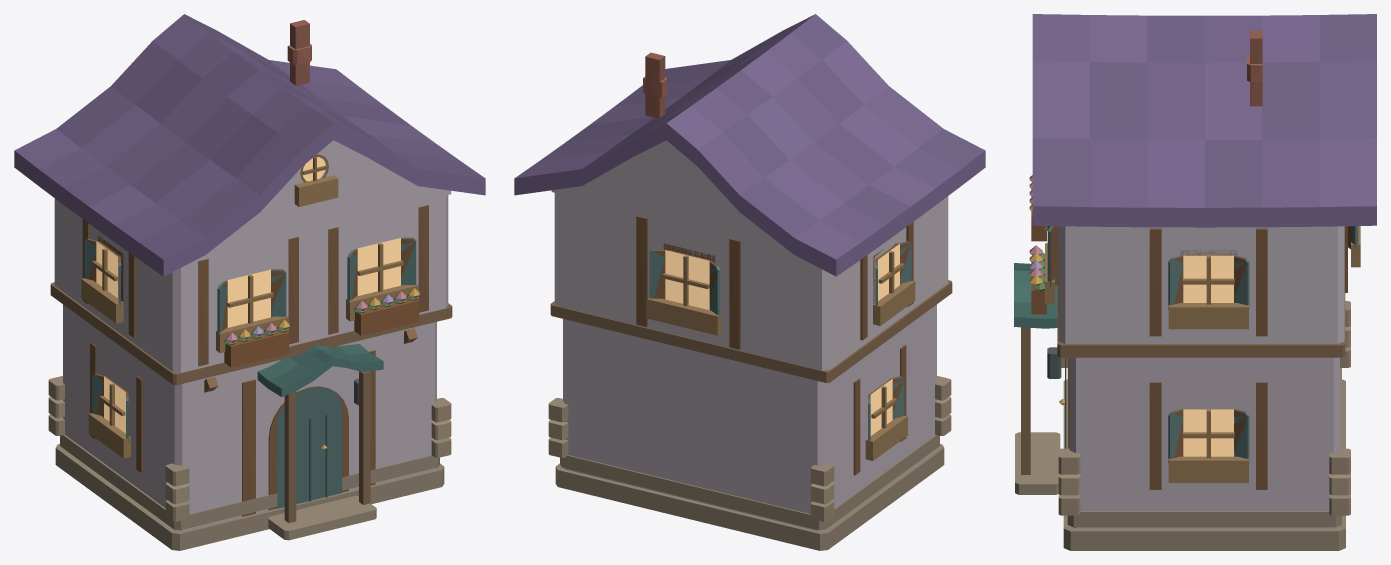
File: lantern-house.glb
The picture shows the model from 3 angles, left to right: view 1: azimuth 30°, elevation 25°; view 2: azimuth 150°, elevation 25°; view 3: azimuth 270°, elevation 25°; orthographic projection. The views are drawn at different scales.
Visible parts, largest first — view 1: laternenhaus; view 2: laternenhaus; view 3: laternenhaus.
Part boxes in pixels (x1,y1,x2,y2): laternenhaus: [14, 14, 485, 550]; laternenhaus: [514, 14, 985, 550]; laternenhaus: [1014, 14, 1376, 550].
Size of the model in its own units: 4.36 by 5.39 by 3.69.
